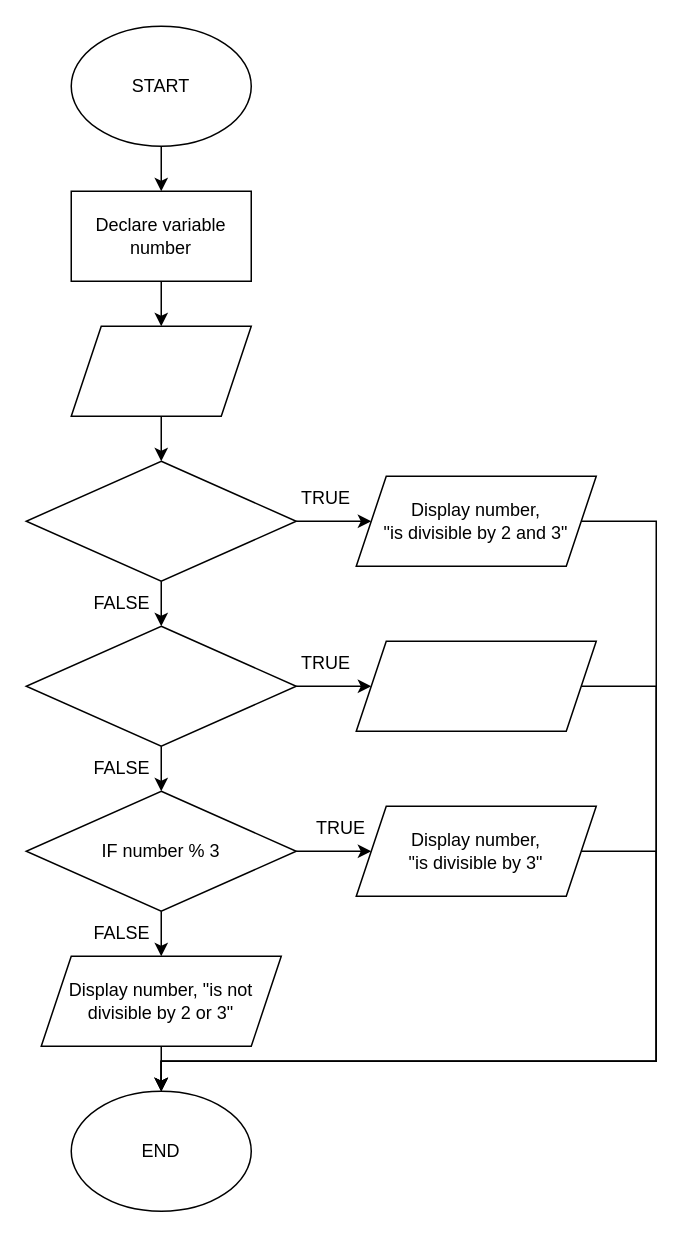
Some shapes in this 695 by 1238 pixel diagram are drawn without their labels. Each missing label, with the centre of its shape:
Display number, "is divisible by 2": pixel 475 685
IF number % 2: pixel 160 685
IF number % 2 and number % 3: pixel 160 520
Prompt & Get number: pixel 160 370
